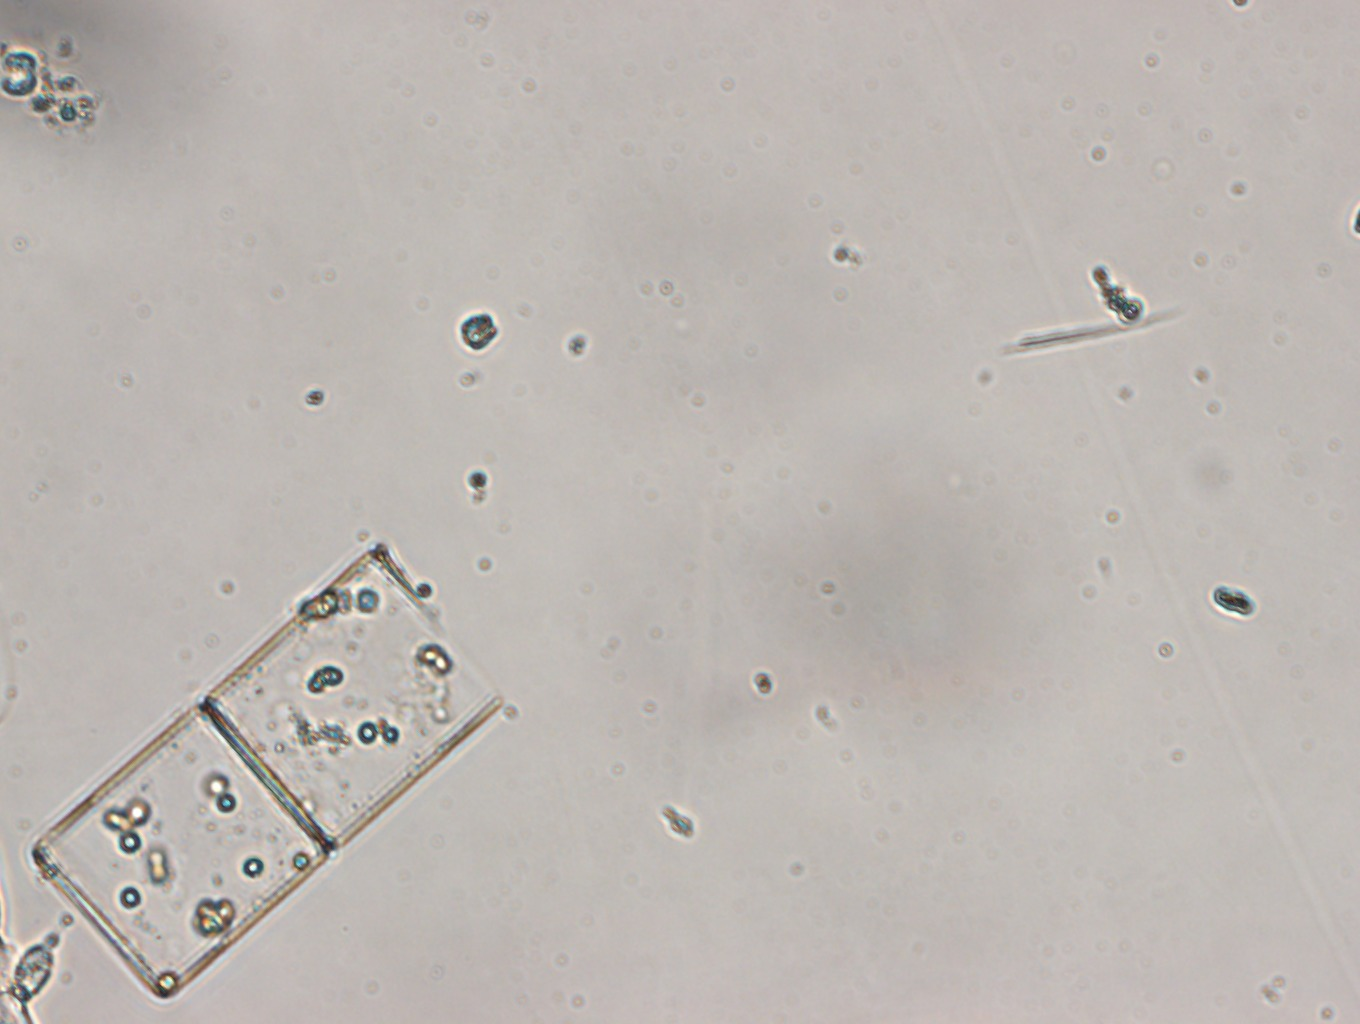guinardia flaccida: (29, 541, 507, 998)
